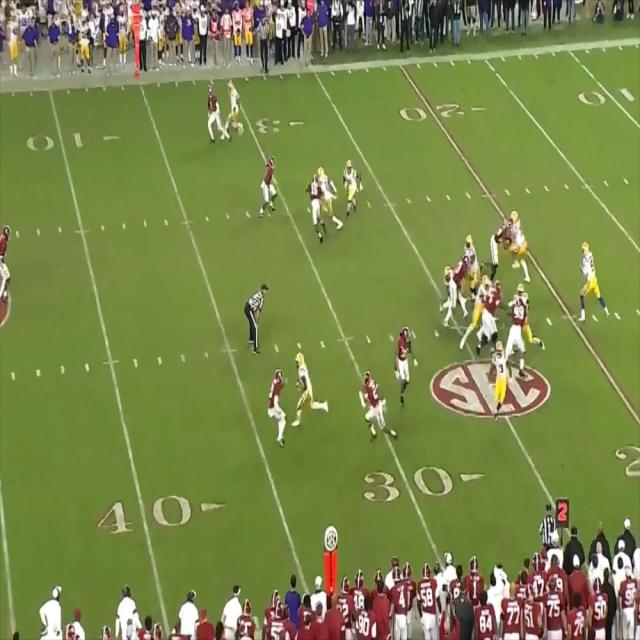db: (365, 378, 389, 439), (270, 368, 287, 440), (260, 155, 276, 217), (1, 224, 12, 300), (206, 86, 221, 140)
lb: (442, 257, 467, 323), (395, 326, 413, 407), (308, 174, 320, 240)
qb: (577, 242, 603, 318)
skill: (317, 166, 343, 231), (296, 350, 318, 424), (487, 347, 509, 414), (346, 158, 361, 214), (227, 82, 240, 134)
